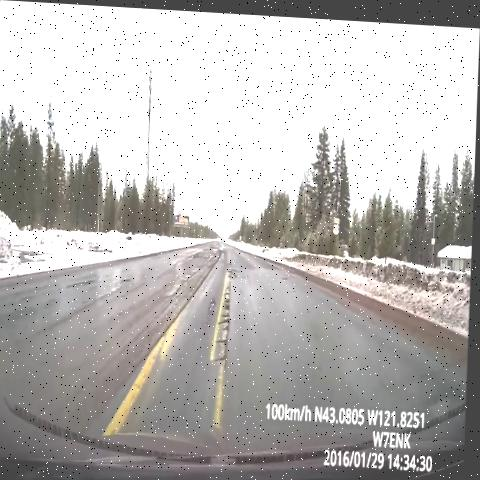pothole: (214, 274, 238, 363), (204, 232, 232, 265), (203, 286, 222, 327), (227, 252, 246, 280), (280, 266, 297, 284)
